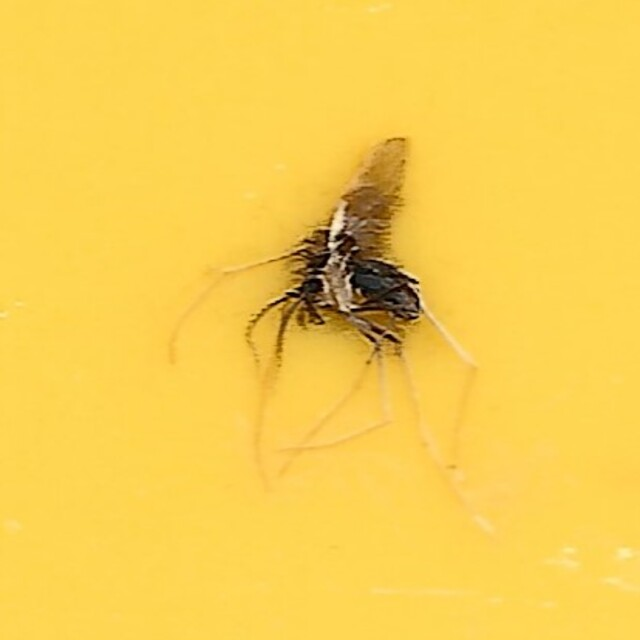Nematocera: (155, 135, 485, 505)
